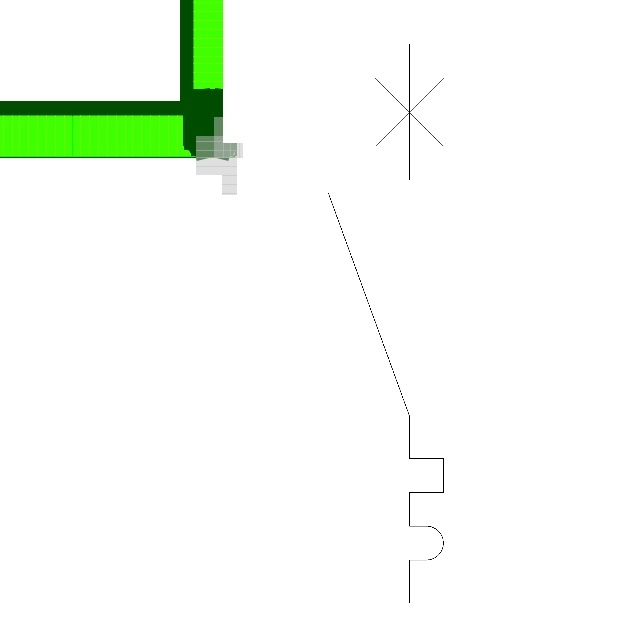interruptor_termomagnetico: (314, 30, 458, 617)
